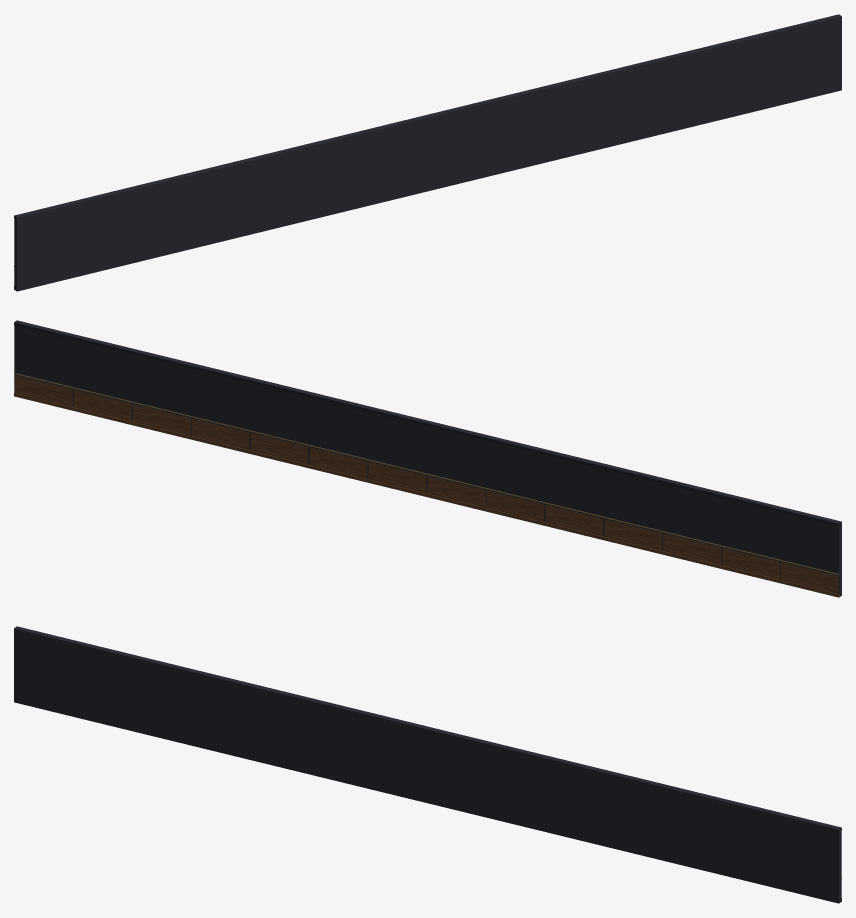
Rendered from wall.fbx.
3 renders of one model, top to bottom at view 1: azimuth 30°, elevation 25°; view 2: azimuth 150°, elevation 25°; view 3: azimuth 330°, elevation 25°, orthographic.
Parts seen in each view (by area): view 1: wall; view 2: wall; view 3: wall.
Boxes of the visible parts, bbox=[...] form: wall: bbox=[14, 14, 841, 291]; wall: bbox=[14, 320, 841, 597]; wall: bbox=[14, 626, 841, 903].
Bounding box in the file's own units: 140 × 12 × 0.89.
1 material, 1 textured.
